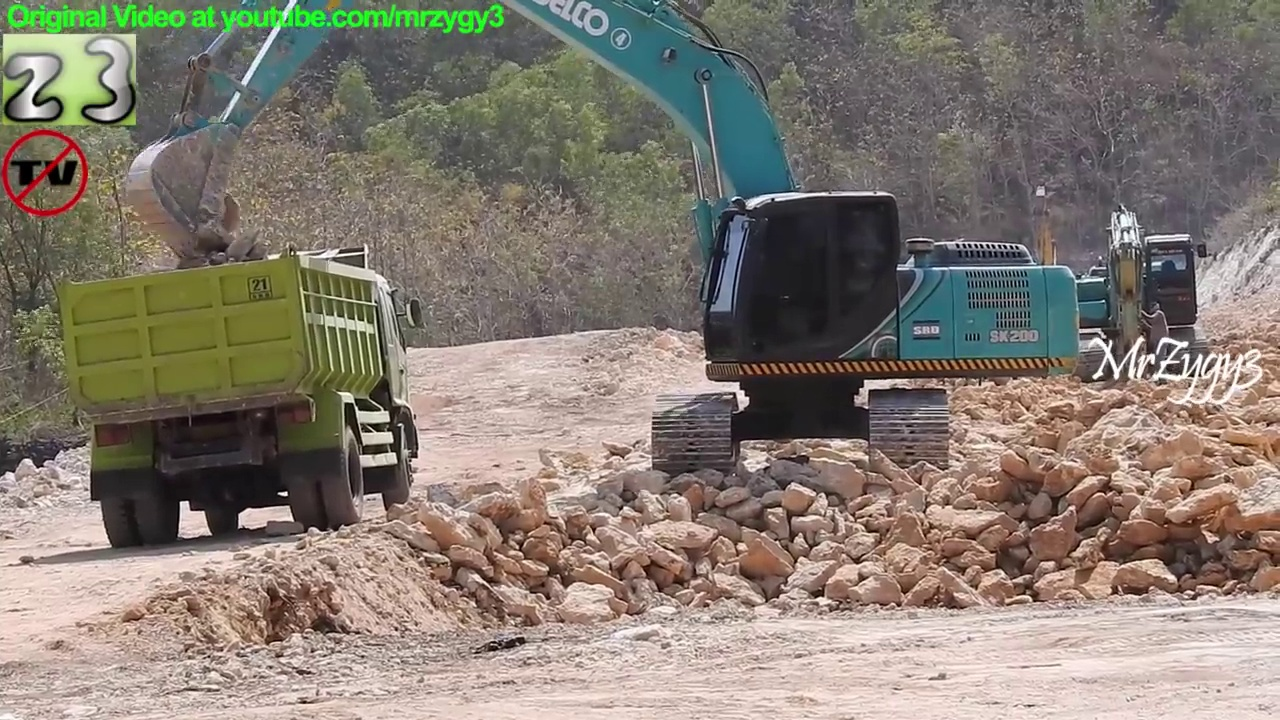excavator: (118, 1, 1091, 488), (969, 182, 1126, 389), (1048, 199, 1215, 383)
truck: (53, 240, 430, 555)
